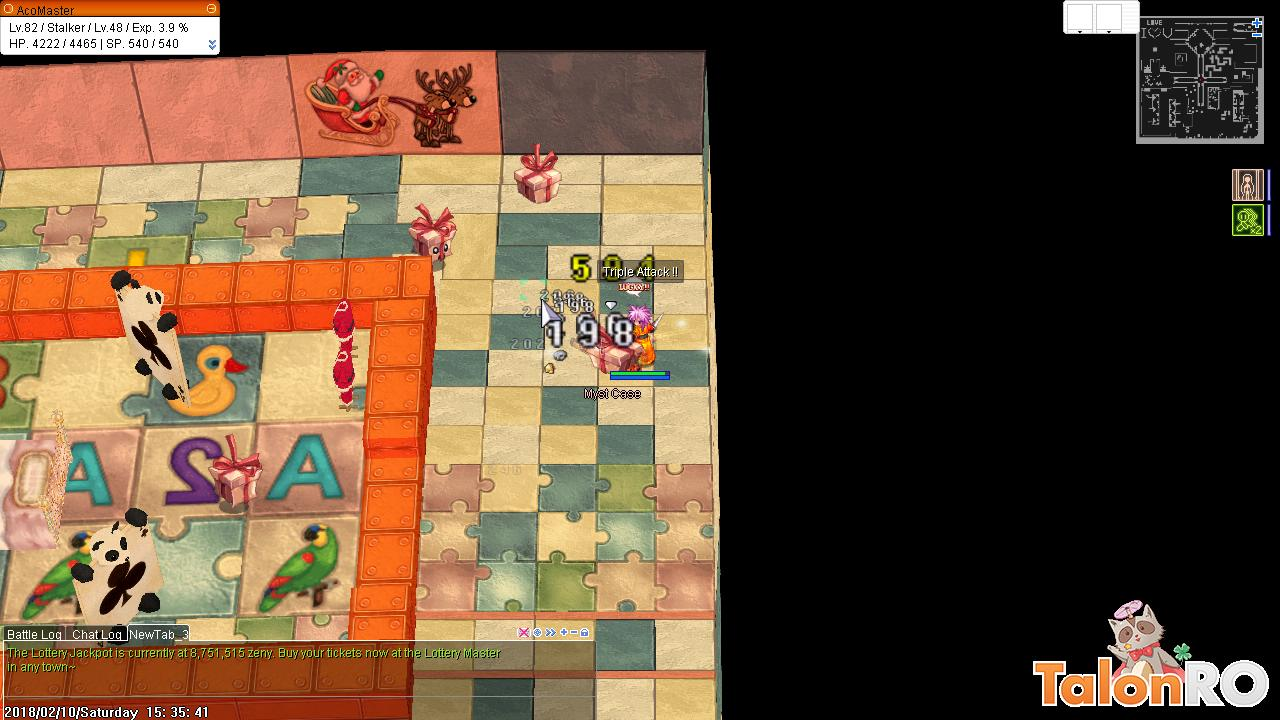loot: (540, 360, 559, 379), (550, 343, 567, 364)
myst_case: (208, 430, 267, 512), (511, 139, 566, 208), (407, 202, 457, 269), (593, 323, 632, 373)
